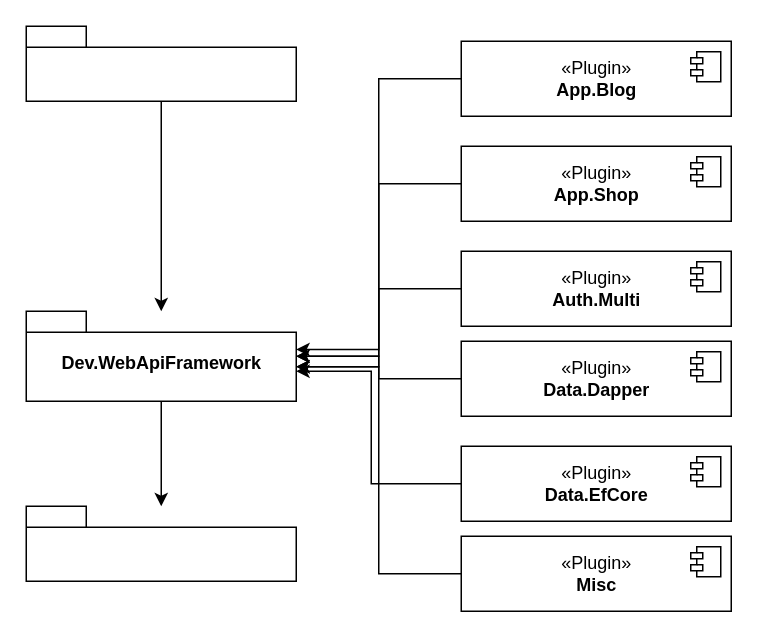
This 758x638 diagram has some shape labels left out. Each missing label, with the centre of its shape:
"Dev" goes at (160,543).
"Dev.WebApi" goes at (160,63).
